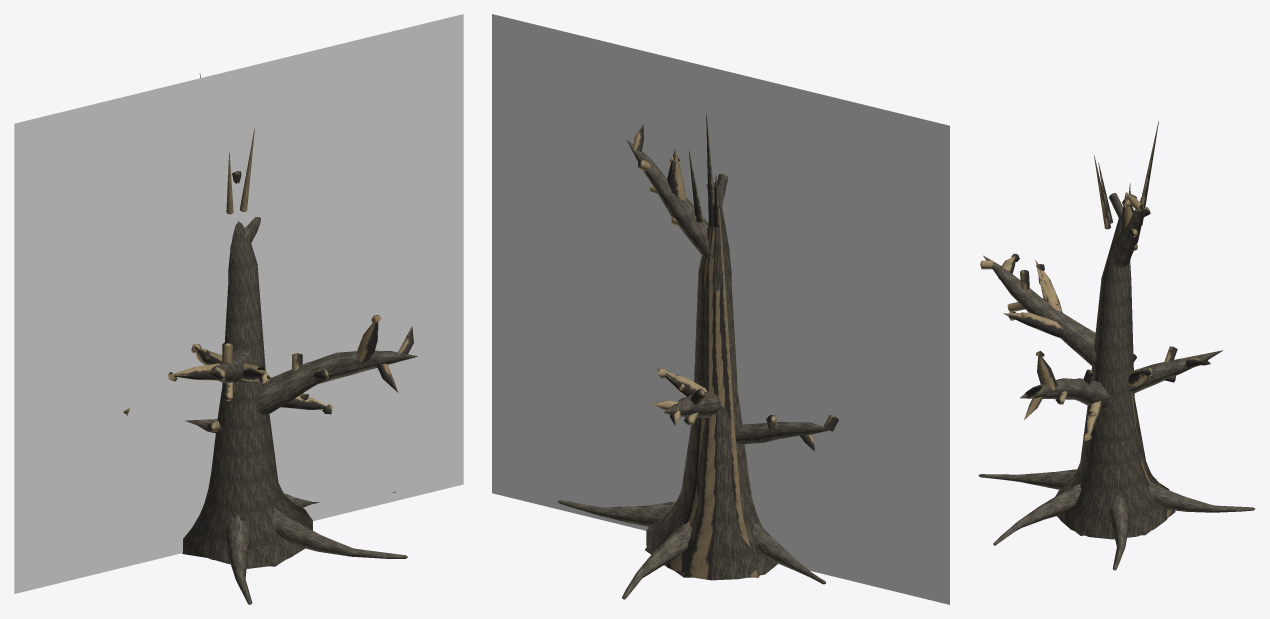
Rendered from foudroye_vieux_a.fbx.
3 views of the same model, side by side, from view 1: azimuth 30°, elevation 25°; view 2: azimuth 150°, elevation 25°; view 3: azimuth 270°, elevation 25° (orthographic). The views are drawn at different scales.
Visible parts, largest first — view 1: foudroye_vieux_a_LOD3, foudroye_vieux_a_LOD1, foudroye_vieux_a_LOD2; view 2: foudroye_vieux_a_LOD3, foudroye_vieux_a_LOD1, foudroye_vieux_a_LOD2; view 3: foudroye_vieux_a_LOD1, foudroye_vieux_a_LOD2.
Boxes of the visible parts, x1,y1,x2,y2 form: foudroye_vieux_a_LOD3: [14, 14, 463, 593]; foudroye_vieux_a_LOD1: [123, 73, 417, 604]; foudroye_vieux_a_LOD2: [125, 75, 415, 604]; foudroye_vieux_a_LOD3: [492, 14, 949, 604]; foudroye_vieux_a_LOD1: [558, 114, 838, 599]; foudroye_vieux_a_LOD2: [558, 114, 836, 599]; foudroye_vieux_a_LOD1: [978, 121, 1254, 570]; foudroye_vieux_a_LOD2: [979, 121, 1255, 570].
Size of what is drawn, in the model's own units: 10.81 by 10.84 by 6.74.
